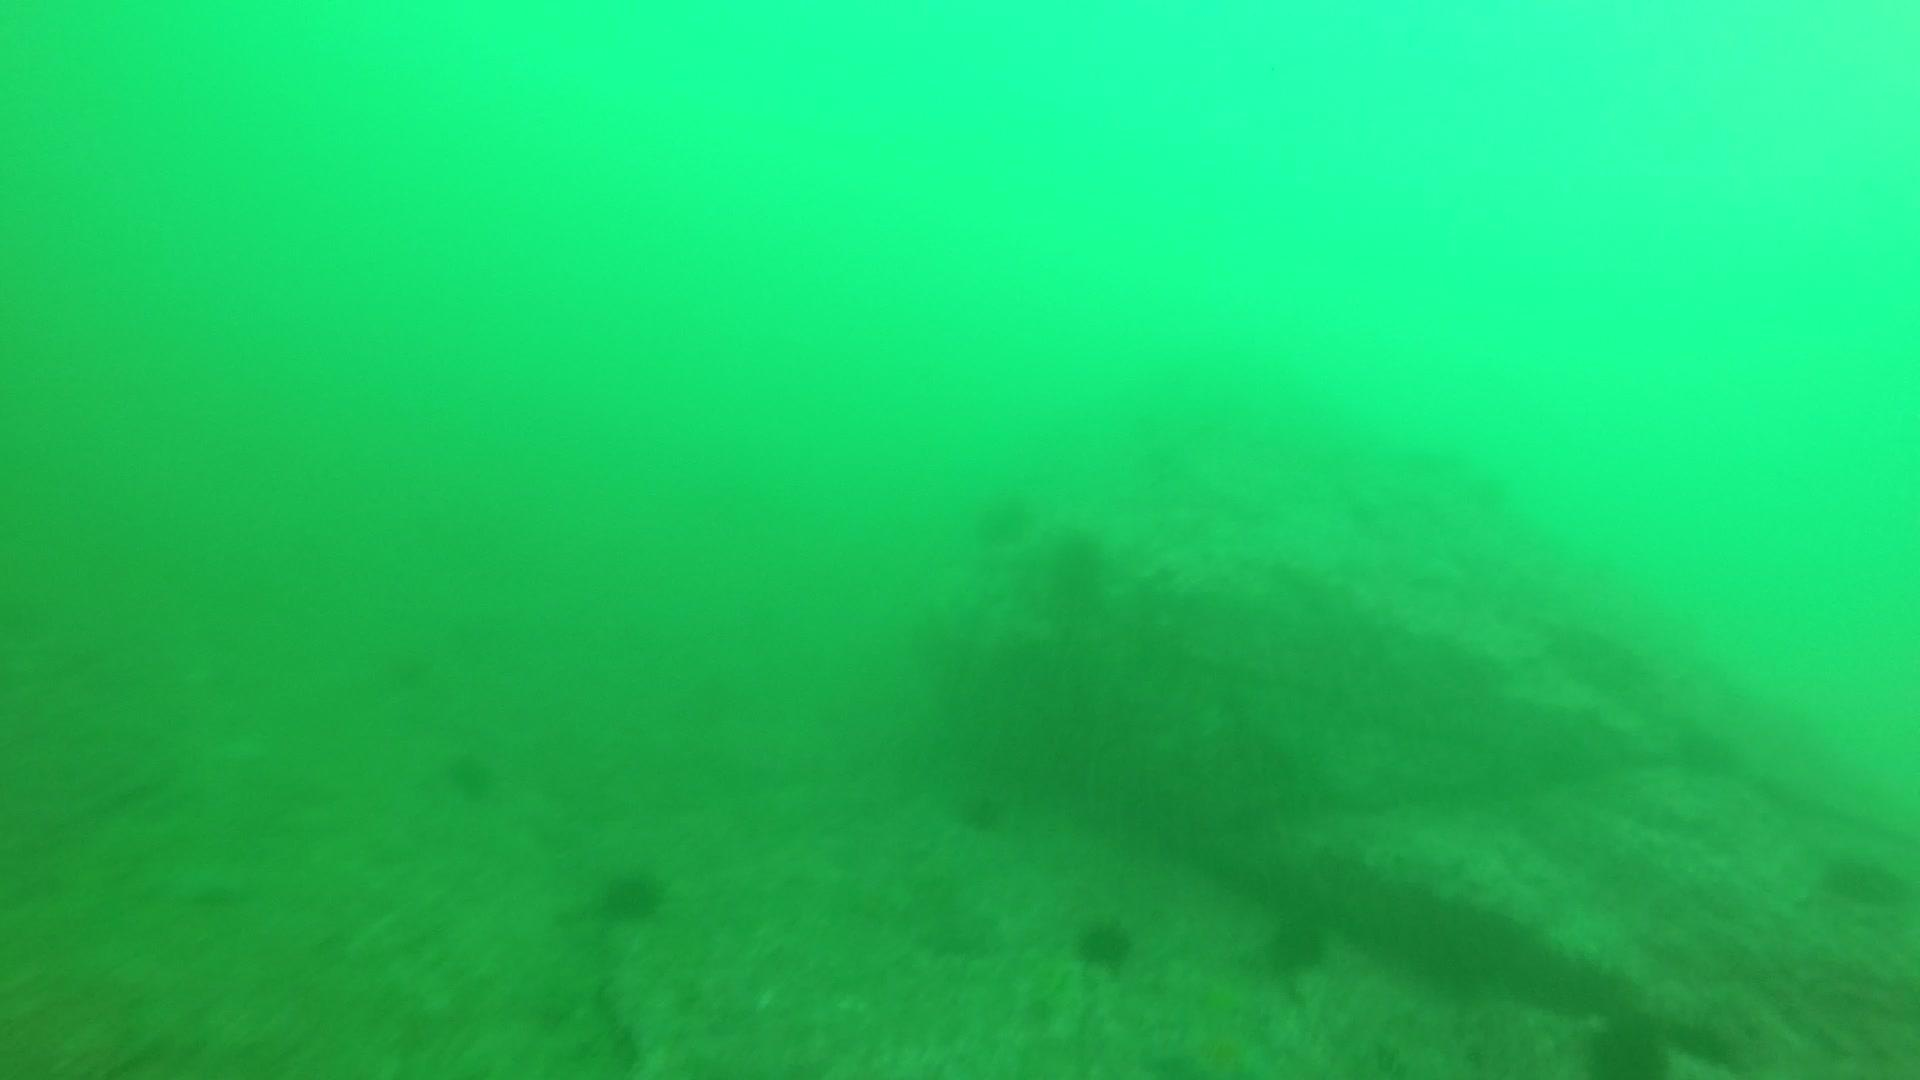echinus: (1578, 1011, 1676, 1079), (1038, 524, 1114, 607), (1815, 843, 1905, 911), (1257, 905, 1336, 978), (592, 858, 673, 927), (1068, 909, 1141, 975), (967, 484, 1039, 549), (436, 742, 504, 804), (949, 779, 1014, 837)
